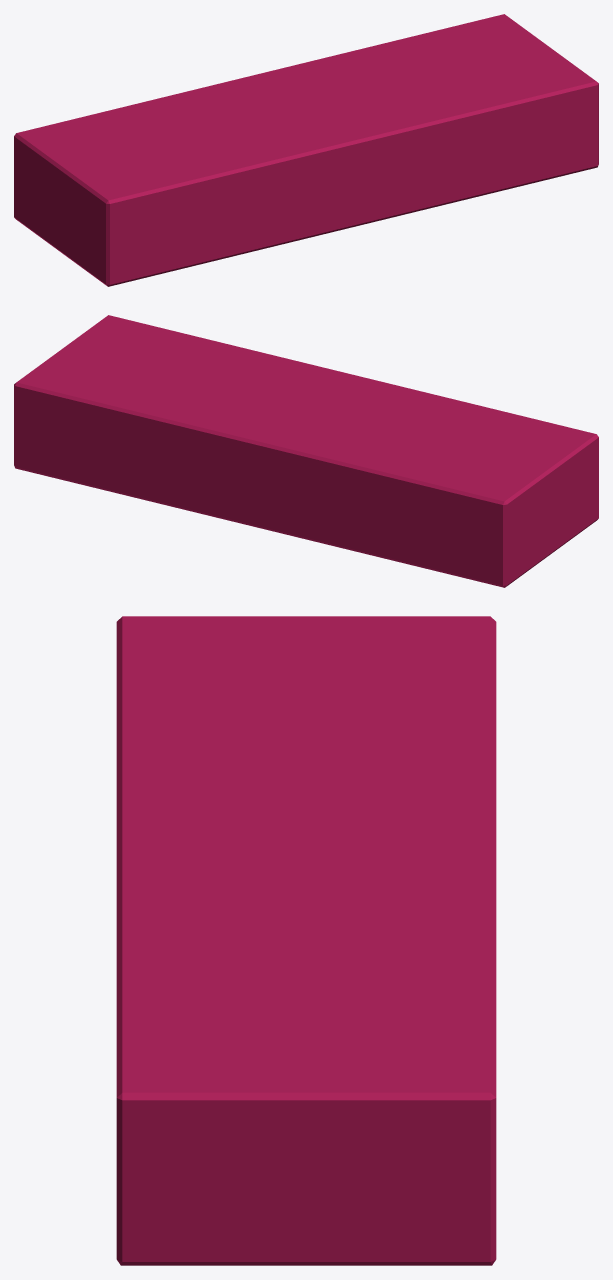
File: Part_2X6_simple.FBX
The picture shows the model from 3 angles, top to bottom: view 1: azimuth 30°, elevation 25°; view 2: azimuth 150°, elevation 25°; view 3: azimuth 270°, elevation 25°; orthographic projection. The views are drawn at different scales.
Visible parts, largest first — view 1: Part_2X6_simple; view 2: Part_2X6_simple; view 3: Part_2X6_simple.
Part boxes in pixels (left/top/right/bottom): Part_2X6_simple: left=14, top=14, right=598, bottom=286; Part_2X6_simple: left=14, top=315, right=598, bottom=587; Part_2X6_simple: left=116, top=616, right=496, bottom=1265.
Size of the model in its own units: 600 by 100 by 200.
